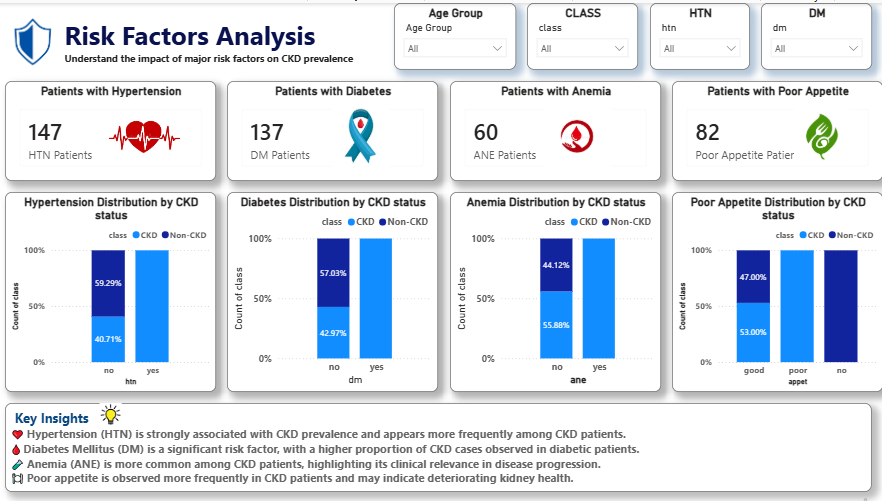

The dashboard page shown, as its layout file describes it:
{"tool":"powerbi","page":{"name":"Risk Factors Analysis","canvas":[1280,720],"ordinal":2},"visuals":[{"type":"image","box":[16,16,80,80],"z":0},{"type":"textbox","box":[96,16,448,80],"z":1000},{"type":"slicer","title":"Age Group","fields":{"Values":["dashboard_dataset_real.Age Group"]},"box":[576,0,176,96],"z":2000},{"type":"slicer","title":"CLASS","fields":{"Values":["dashboard_dataset_real.class"]},"box":[768,0,160,96],"z":3000},{"type":"slicer","title":"HTN","fields":{"Values":["dashboard_dataset_real.htn"]},"box":[944,0,144,96],"z":4000},{"type":"slicer","title":"DM","fields":{"Values":["dashboard_dataset_real.dm"]},"box":[1104,0,160,96],"z":5000},{"type":"cardVisual","title":"Patients with Hypertension","fields":{"Data":["dashboard_dataset_real.HTN Patients"]},"box":[16,112,304,144],"z":6000},{"type":"cardVisual","title":"Patients with Diabetes","fields":{"Data":["dashboard_dataset_real.DM Patients"]},"box":[336,112,304,144],"z":7000},{"type":"cardVisual","title":"Patients with Anemia","fields":{"Data":["dashboard_dataset_real.ANE Patients"]},"box":[656,112,304,144],"z":8000},{"type":"cardVisual","title":"Patients with Poor Appetite","fields":{"Data":["dashboard_dataset_real.Poor Appetite Patients"]},"box":[976,112,304,144],"z":9000},{"type":"image","box":[160,144,112,96],"z":10000},{"type":"image","box":[464,144,128,96],"z":11000},{"type":"image","box":[1152,144,80,96],"z":12000},{"type":"image","box":[768,144,144,96],"z":13000},{"type":"hundredPercentStackedColumnChart","title":"Hypertension Distribution by CKD status","fields":{"Category":["dashboard_dataset_real.htn"],"Series":["dashboard_dataset_real.class"],"Y":["CountNonNull(dashboard_dataset_real.class)"]},"box":[16,272,304,288],"z":14000},{"type":"hundredPercentStackedColumnChart","title":"Diabetes Distribution by CKD status","fields":{"Series":["dashboard_dataset_real.class"],"Category":["dashboard_dataset_real.dm"],"Y":["CountNonNull(dashboard_dataset_real.class)"]},"box":[336,272,304,288],"z":15000},{"type":"hundredPercentStackedColumnChart","title":"Anemia Distribution by CKD status","fields":{"Series":["dashboard_dataset_real.class"],"Y":["CountNonNull(dashboard_dataset_real.class)"],"Category":["dashboard_dataset_real.ane"]},"box":[656,272,304,288],"z":16000},{"type":"hundredPercentStackedColumnChart","title":"Poor Appetite Distribution by CKD status","fields":{"Series":["dashboard_dataset_real.class"],"Y":["CountNonNull(dashboard_dataset_real.class)"],"Category":["dashboard_dataset_real.appet"]},"box":[976,272,304,288],"z":17000},{"type":"textbox","box":[16,576,1248,128],"z":18000},{"type":"image","box":[144,576,48,32],"z":19000}]}

Visuals, with their boxes in screenshot pixels (x1, y1, x2, y2), scaled from the page's 1280x720 canvas onto the 882x501 screenshot:
image: 11, 11, 66, 67
textbox: 66, 11, 375, 67
"Age Group" slicer: 397, 0, 518, 67
"CLASS" slicer: 529, 0, 639, 67
"HTN" slicer: 650, 0, 750, 67
"DM" slicer: 761, 0, 871, 67
"Patients with Hypertension" cardVisual: 11, 78, 220, 178
"Patients with Diabetes" cardVisual: 232, 78, 441, 178
"Patients with Anemia" cardVisual: 452, 78, 662, 178
"Patients with Poor Appetite" cardVisual: 673, 78, 881, 178
image: 110, 100, 187, 167
image: 320, 100, 408, 167
image: 794, 100, 849, 167
image: 529, 100, 628, 167
"Hypertension Distribution by CKD status" hundredPercentStackedColumnChart: 11, 189, 220, 390
"Diabetes Distribution by CKD status" hundredPercentStackedColumnChart: 232, 189, 441, 390
"Anemia Distribution by CKD status" hundredPercentStackedColumnChart: 452, 189, 662, 390
"Poor Appetite Distribution by CKD status" hundredPercentStackedColumnChart: 673, 189, 881, 390
textbox: 11, 401, 871, 490
image: 99, 401, 132, 423
